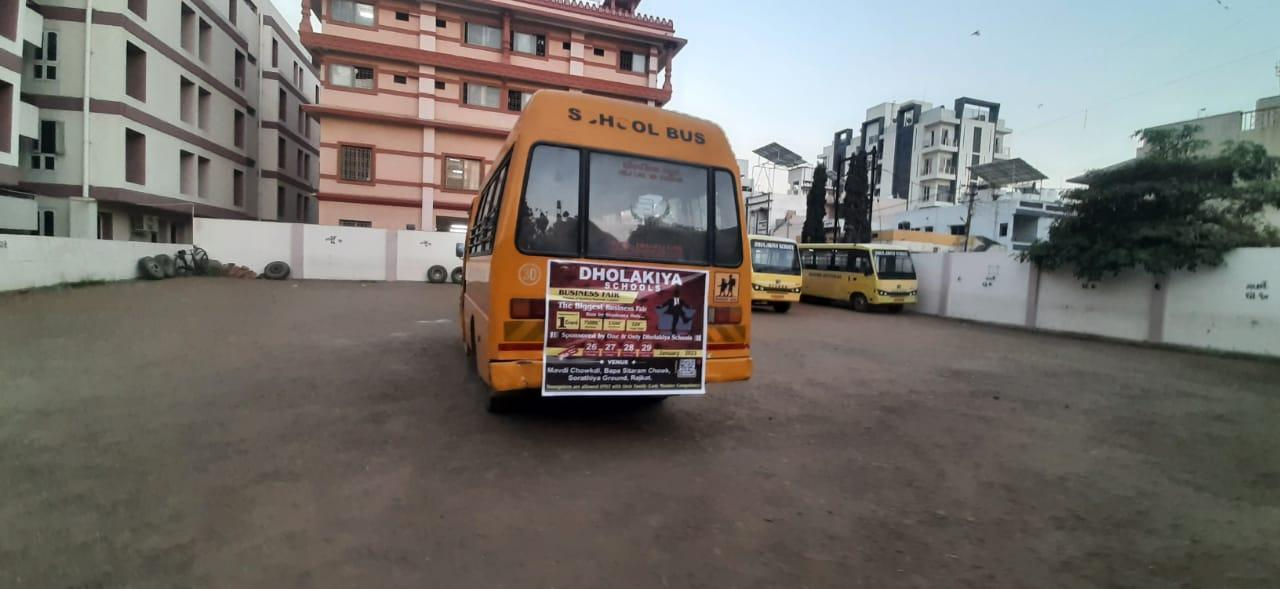Bus: (460, 85, 764, 440), (818, 239, 927, 320), (740, 225, 810, 316)
